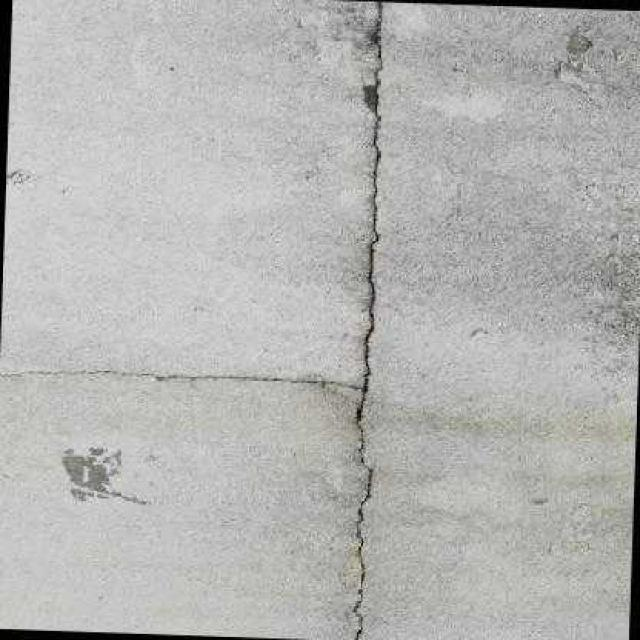D00: (353, 2, 381, 639), (0, 371, 359, 389)
